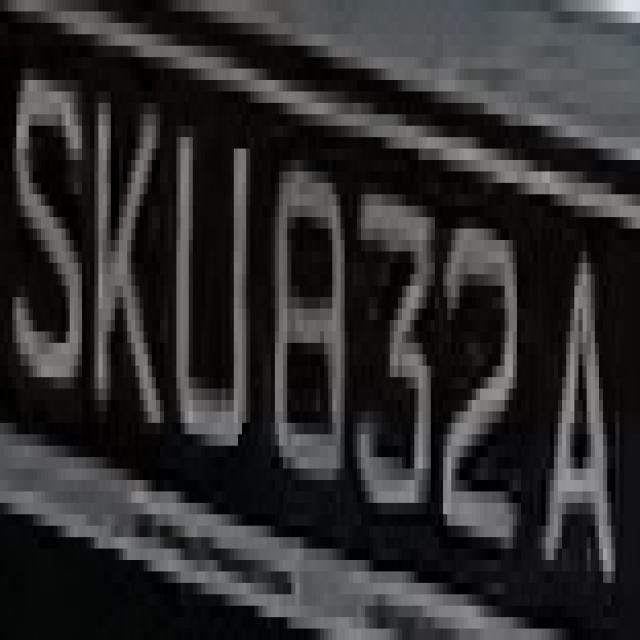2: (439, 172, 529, 594)
3: (345, 149, 439, 537)
8: (258, 137, 353, 526)
A: (529, 228, 620, 606)
K: (82, 46, 164, 491)
S: (8, 34, 90, 423)
U: (164, 69, 259, 468)
